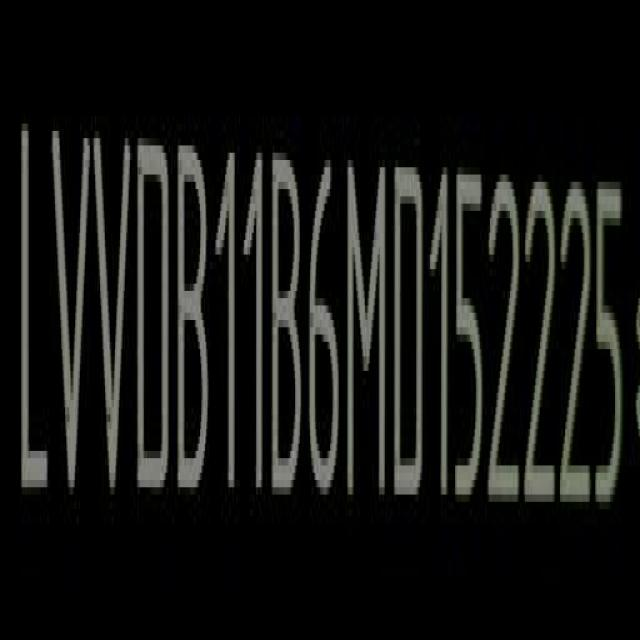1: (215, 142, 239, 503), (245, 143, 264, 509), (430, 156, 450, 501)
2: (488, 167, 522, 514), (524, 175, 558, 512), (558, 175, 592, 506)
5: (454, 154, 484, 504), (596, 178, 625, 514)
6: (308, 150, 338, 496)
B: (268, 137, 304, 496), (174, 137, 209, 493)
D: (137, 132, 170, 493), (395, 156, 424, 501)
L: (15, 119, 50, 504)
M: (346, 159, 388, 498)
V: (52, 118, 91, 514), (94, 121, 130, 517)
